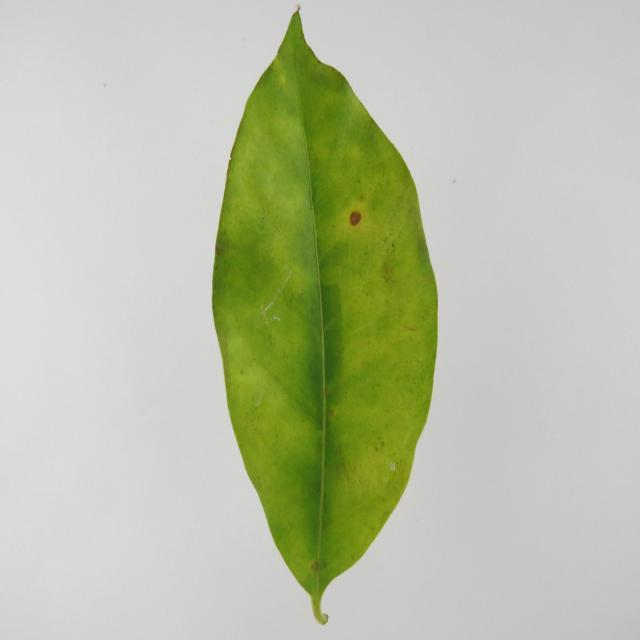DeficienciaNutricional-Nitrogeno: (213, 9, 436, 621)
